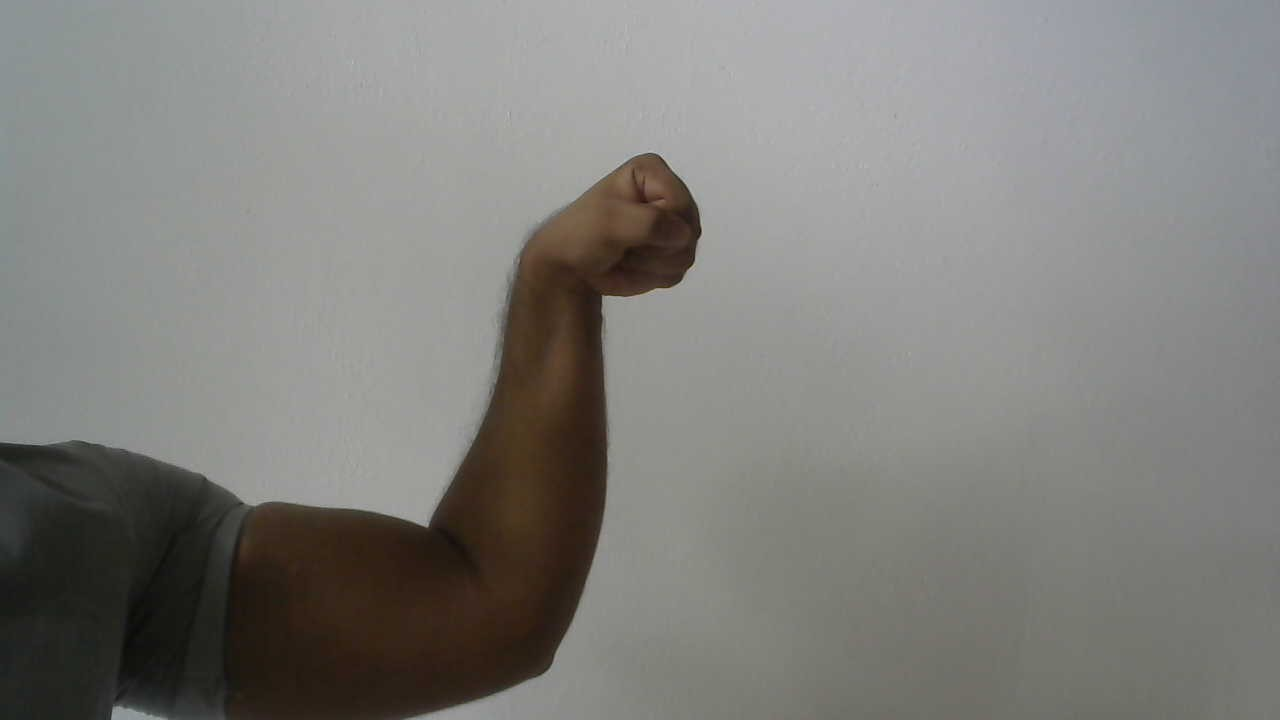yes: (498, 134, 722, 330)
